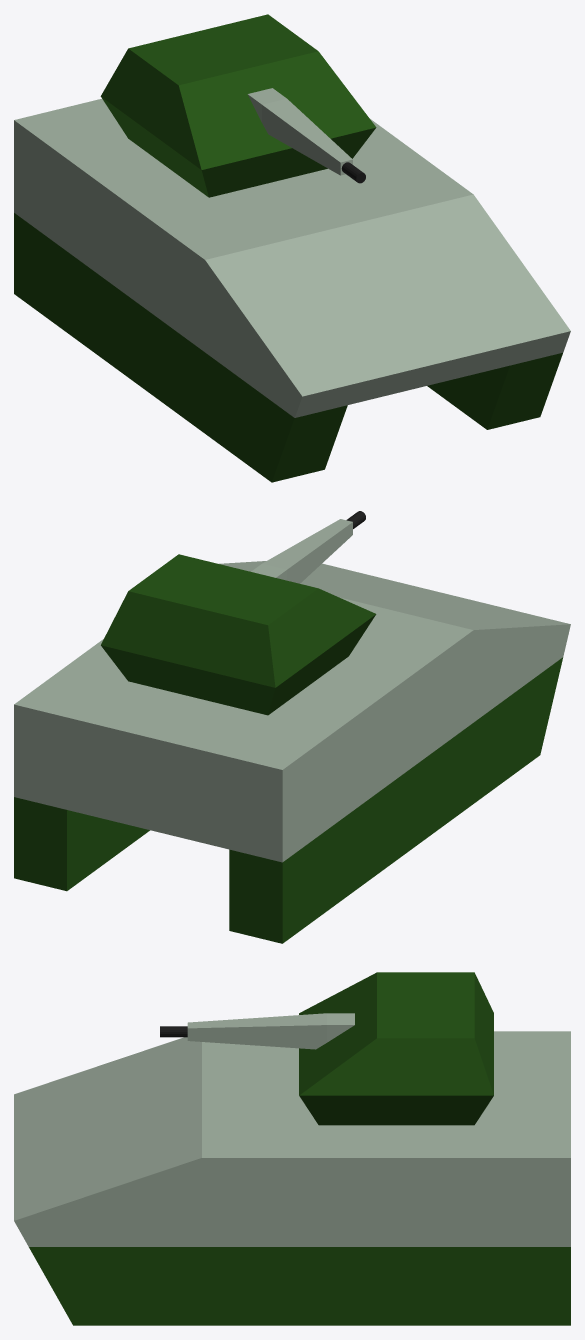
The model's file is combat_tank_1.DLlFS4R-.glb.
3 renders of one model, top to bottom at view 1: azimuth 30°, elevation 25°; view 2: azimuth 150°, elevation 25°; view 3: azimuth 270°, elevation 25°, orthographic. The views are drawn at different scales.
Parts seen in each view (by area): view 1: base, head_base, barrel_base; view 2: base, head_base, barrel_base; view 3: base, head_base, barrel_base.
Boxes of the visible parts, x1=… form: base: x1=14, y1=98, x2=570, y2=482; head_base: x1=100, y1=14, x2=376, y2=197; barrel_base: x1=247, y1=88, x2=352, y2=175; base: x1=14, y1=561, x2=570, y2=943; head_base: x1=101, y1=554, x2=376, y2=715; barrel_base: x1=251, y1=519, x2=352, y2=583; base: x1=14, y1=1031, x2=570, y2=1325; head_base: x1=299, y1=972, x2=493, y2=1125; barrel_base: x1=187, y1=1013, x2=354, y2=1049.
Bounding box in the file's own units: 0.43 × 0.4075 × 0.8.
